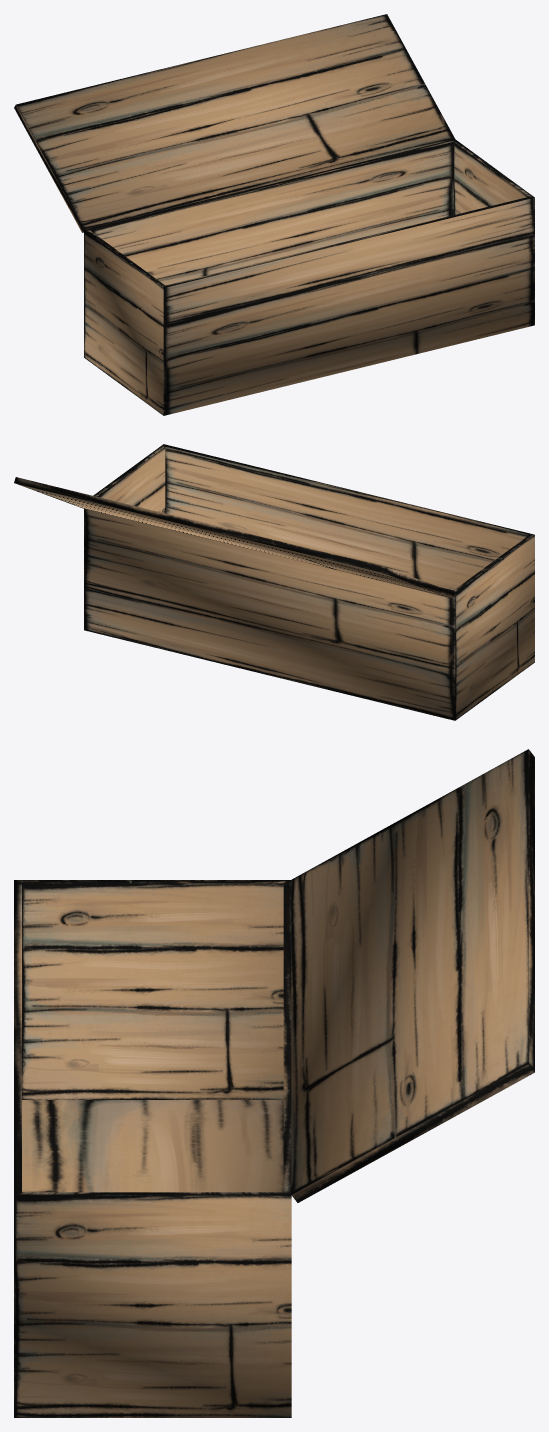
The picture shows the model from 3 angles, top to bottom: view 1: azimuth 30°, elevation 25°; view 2: azimuth 150°, elevation 25°; view 3: azimuth 270°, elevation 25°; orthographic projection. The views are drawn at different scales.
Parts seen in each view (by area): view 1: box, box lid; view 2: box, box lid; view 3: box, box lid.
Boxes of the visible parts, x1,y1,x2,y2 form: box: (84,139,534,415); box lid: (14,14,454,232); box: (84,444,534,720); box lid: (14,477,454,598); box: (14,880,291,1417); box lid: (291,749,534,1202).
Size of the model in its own units: 786 by 411 by 549.
Materials: 1 (1 with a texture image).
